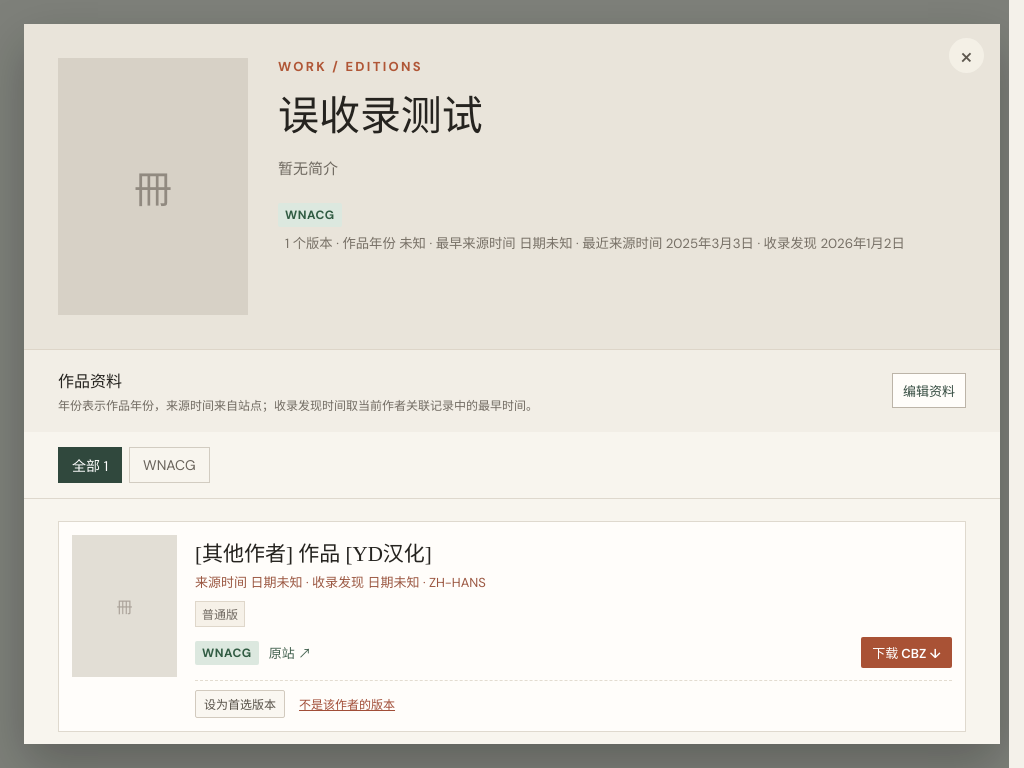
Test: WorkDetail correction and inline download actions › checks library and chapters inline before queueing a download without window.confirm
The image size is (1024, 768).
Click the button "下载 CBZ ↓": (907, 652) [861,636,952,668]
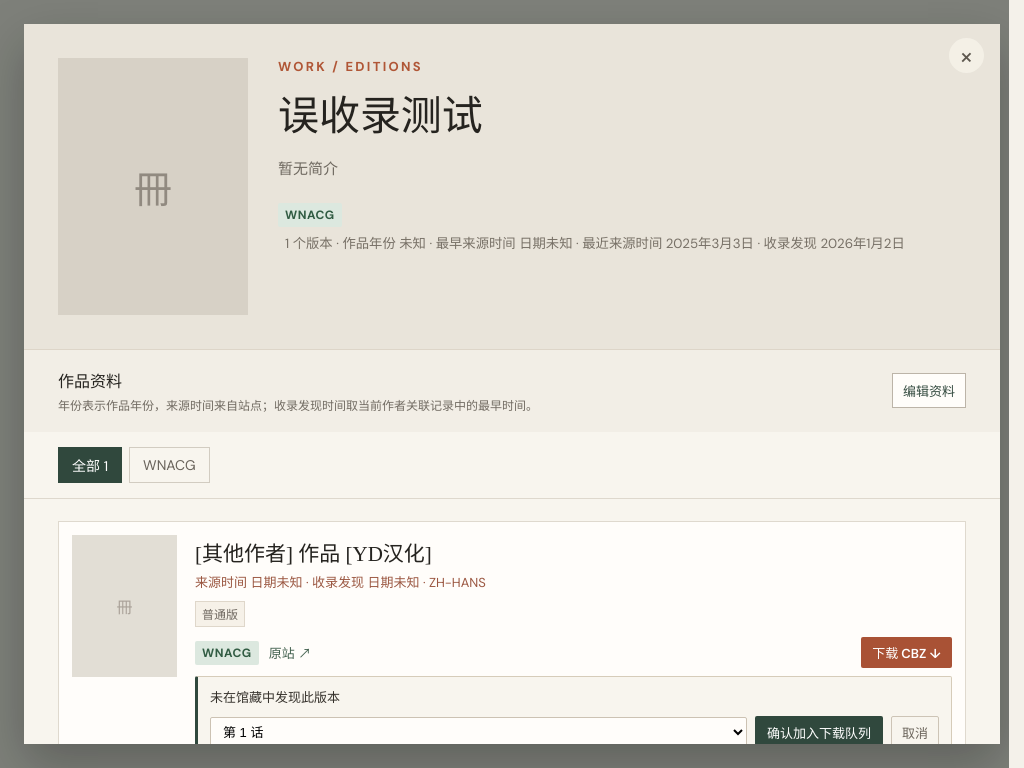
Check: the text "未在馆藏中发现此版本" is shown, box [210,688,340,706]
Select "第 2 话" in the dropdown named "选择章节": (478, 732) [210,716,747,748]
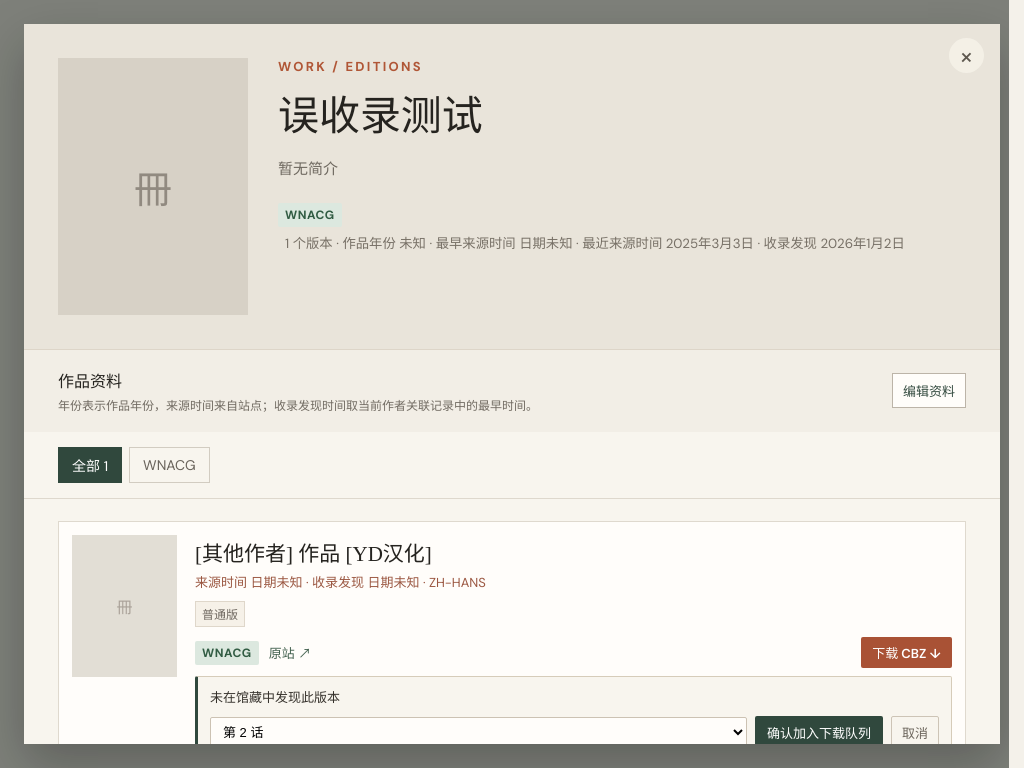
Click the button "确认加入下载队列": (819, 732) [755,716,883,748]
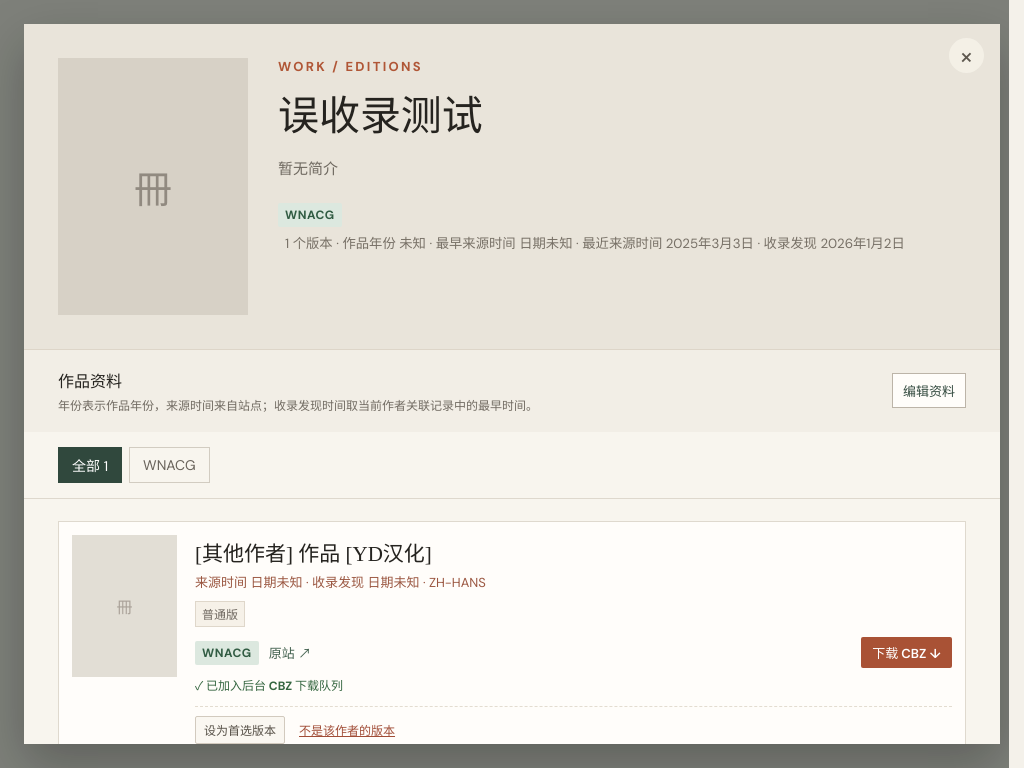
Check: the text "✓ 已加入后台 CBZ 下载队列" is shown, box [195,678,343,694]
